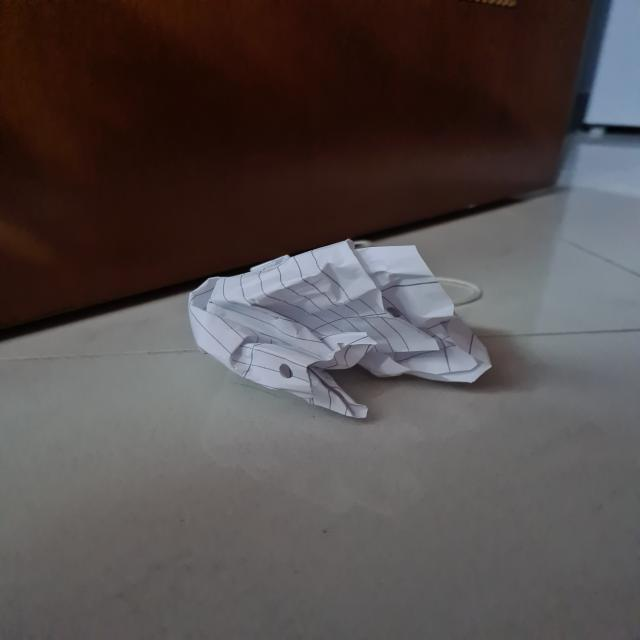Paper: (191, 243, 502, 415)
